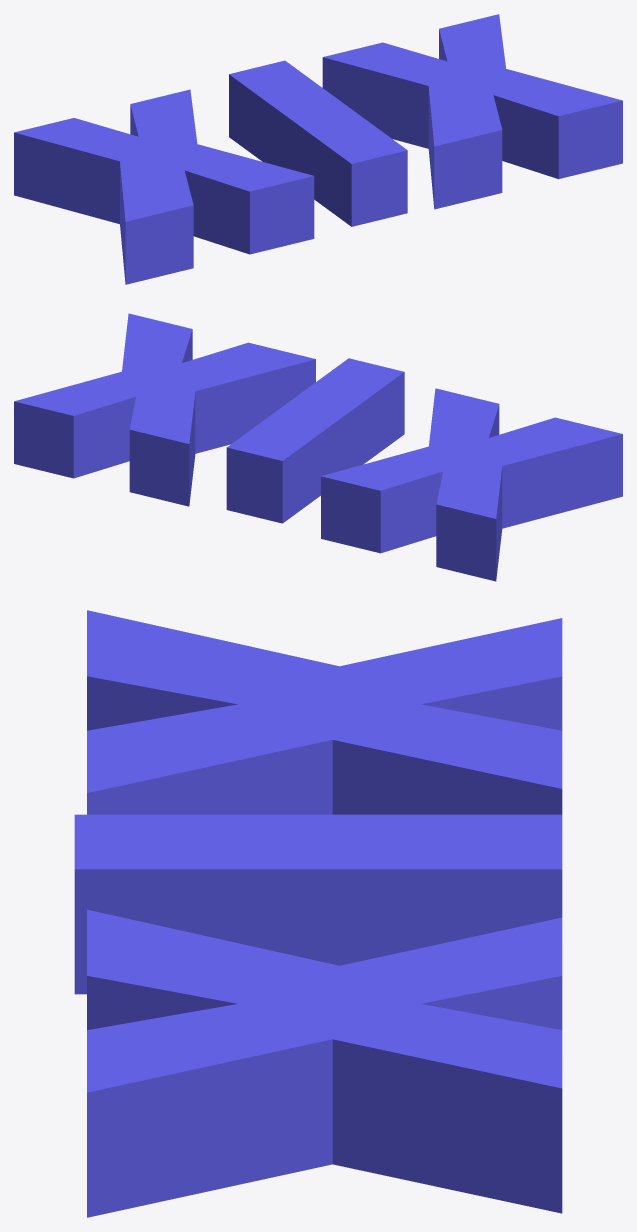
3 renders of one model, top to bottom at view 1: azimuth 30°, elevation 25°; view 2: azimuth 150°, elevation 25°; view 3: azimuth 270°, elevation 25°, orthographic. The views are drawn at different scales.
Parts seen in each view (by area): view 1: X1, X2, I_2_1; view 2: X1, X2, I_2_1; view 3: X2, X1, I_2_1.
Boxes of the visible parts, bbox=[...] form: X1: bbox=[14, 89, 314, 284]; X2: bbox=[322, 14, 622, 209]; I_2_1: bbox=[229, 60, 407, 226]; X1: bbox=[321, 388, 622, 581]; X2: bbox=[14, 313, 315, 506]; I_2_1: bbox=[226, 358, 404, 523]; X2: bbox=[87, 909, 562, 1217]; X1: bbox=[87, 610, 562, 814]; I_2_1: bbox=[74, 814, 562, 994].
Bounding box in the file's own units: 1.24 × 0.1639 × 0.5301.
